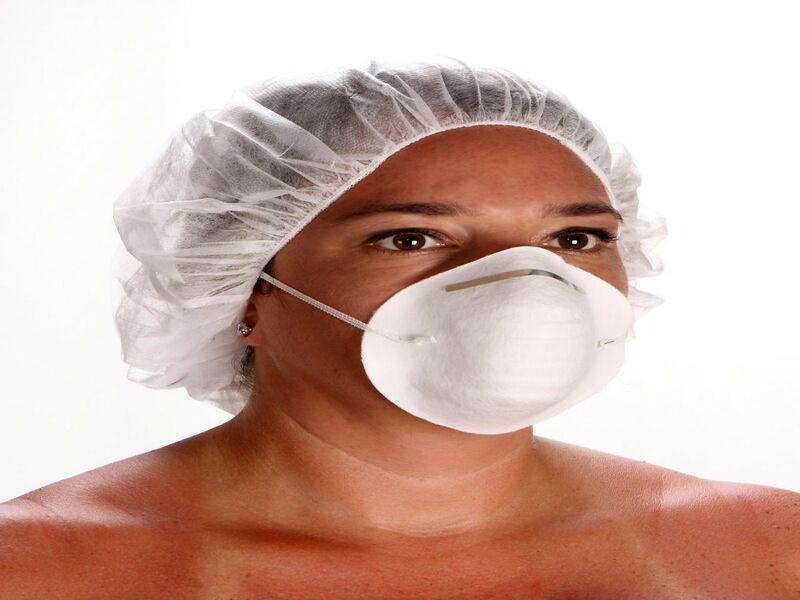with_mask: (196, 63, 634, 442)
